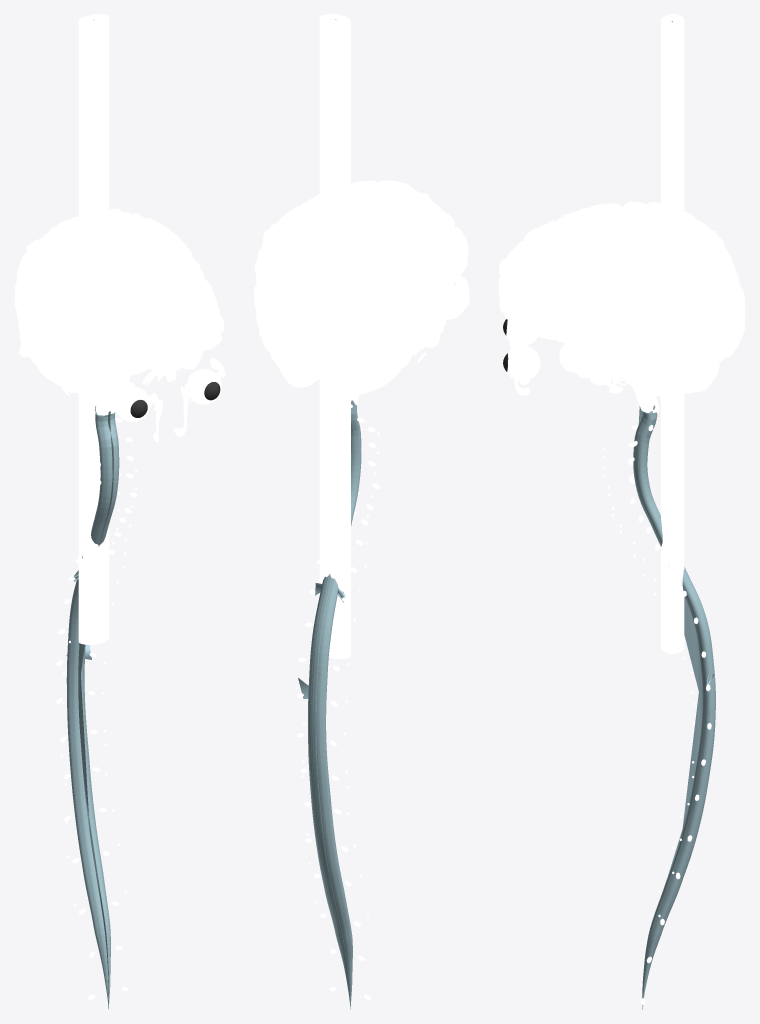
File: body-nervous.glb
3 views of the same model, side by side, from view 1: azimuth 30°, elevation 25°; view 2: azimuth 150°, elevation 25°; view 3: azimuth 270°, elevation 25° (orthographic). The views are drawn at different scales.
Visible parts, largest first — view 1: White matter of spinal cord, Spinal dura, Middle frontal gyrus.r, Superior frontal gyrus.r, Precentral gyrus.r, Superior frontal gyrus.l, Middle frontal gyrus.l, Falx cerebri, Postcentral gyrus.r, Middle temporal gyrus.r, Superior temporal gyrus (Lateral part).r, Supramarginal gyrus.r (+13 smaller); view 2: White matter of spinal cord, Spinal dura, Angular gyrus.r, Superior parietal lobule.r, Falx cerebri, Postcentral gyrus.r, Supramarginal gyrus.r, Precentral gyrus.r, Lateral occipital gyrus (Middle occipital gyrus*).r, Angular gyrus.l, Middle temporal gyrus.r, Superior parietal lobule.l (+13 smaller); view 3: White matter of spinal cord, Spinal dura, Middle frontal gyrus.l, Precentral gyrus.l, Middle temporal gyrus.l, Superior frontal gyrus.l, Postcentral gyrus.l, Superior temporal gyrus (Lateral part).l, Supramarginal gyrus.l, Angular gyrus.l, Falx cerebri, Inferior temporal gyrus.l (+13 smaller).
Boxes of the visible parts, x1,y1,x2,y2 form: White matter of spinal cord: [78, 14, 109, 644]; Spinal dura: [66, 406, 119, 1009]; Middle frontal gyrus.r: [74, 248, 158, 358]; Superior frontal gyrus.r: [98, 229, 176, 345]; Precentral gyrus.r: [52, 226, 101, 329]; Superior frontal gyrus.l: [124, 224, 200, 343]; Middle frontal gyrus.l: [155, 229, 224, 332]; Falx cerebri: [77, 212, 181, 382]; Postcentral gyrus.r: [35, 220, 83, 316]; Middle temporal gyrus.r: [14, 293, 87, 388]; Superior temporal gyrus (Lateral part).r: [19, 300, 95, 378]; Supramarginal gyrus.r: [15, 245, 47, 313]; White matter of spinal cord: [319, 14, 350, 658]; Spinal dura: [298, 400, 361, 1009]; Angular gyrus.r: [329, 254, 401, 318]; Superior parietal lobule.r: [314, 230, 378, 294]; Falx cerebri: [297, 180, 413, 376]; Postcentral gyrus.r: [358, 216, 441, 278]; Supramarginal gyrus.r: [377, 251, 440, 312]; Precentral gyrus.r: [366, 202, 452, 277]; Lateral occipital gyrus (Middle occipital gyrus*).r: [329, 310, 376, 366]; Angular gyrus.l: [256, 228, 298, 298]; Middle temporal gyrus.r: [372, 307, 447, 347]; Superior parietal lobule.l: [283, 220, 318, 288]; White matter of spinal cord: [661, 14, 684, 653]; Spinal dura: [633, 405, 715, 1009]; Middle frontal gyrus.l: [502, 239, 625, 323]; Precentral gyrus.l: [579, 219, 651, 322]; Middle temporal gyrus.l: [573, 315, 709, 373]; Superior frontal gyrus.l: [498, 216, 629, 289]; Postcentral gyrus.l: [602, 223, 671, 314]; Superior temporal gyrus (Lateral part).l: [562, 318, 674, 360]; Supramarginal gyrus.l: [624, 263, 691, 327]; Angular gyrus.l: [677, 263, 733, 326]; Falx cerebri: [504, 208, 741, 337]; Inferior temporal gyrus.l: [584, 339, 706, 385].
Size of the model in its own units: 0.1378 by 0.7978 by 0.1807.
